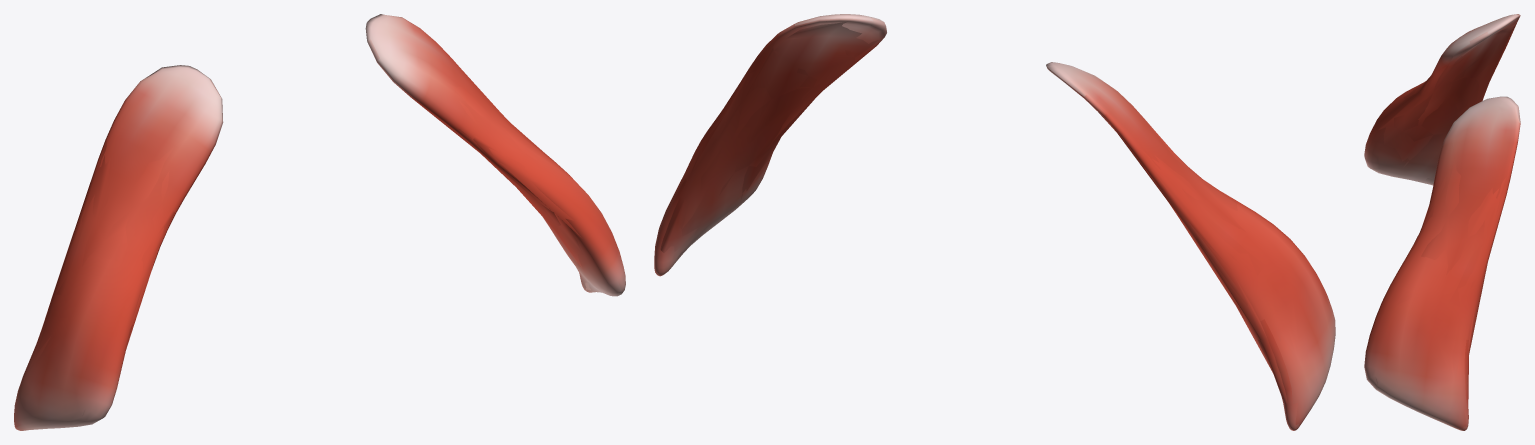
Rendered from interscutulares.fbx.
The picture shows the model from 3 angles, left to right: view 1: azimuth 30°, elevation 25°; view 2: azimuth 150°, elevation 25°; view 3: azimuth 270°, elevation 25°; orthographic projection. The views are drawn at different scales.
Visible parts, largest first — view 1: interscutulares, interscutulares low; view 2: interscutulares, interscutulares low; view 3: interscutulares, interscutulares low.
Boxes of the visible parts, box(x1,y1,x2,y2) form: interscutulares: box(14, 14, 625, 430); interscutulares low: box(25, 25, 625, 429); interscutulares: box(654, 14, 1335, 430); interscutulares low: box(660, 21, 1335, 404); interscutulares: box(1364, 14, 1520, 430); interscutulares low: box(1375, 22, 1516, 430).
Bounding box in the file's own units: 20.87 × 10.18 × 5.7.
Materials: 1 (1 with a texture image).
